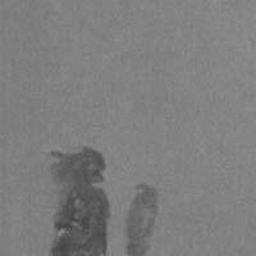Oil spot: (45, 145, 113, 256), (123, 180, 163, 256)
